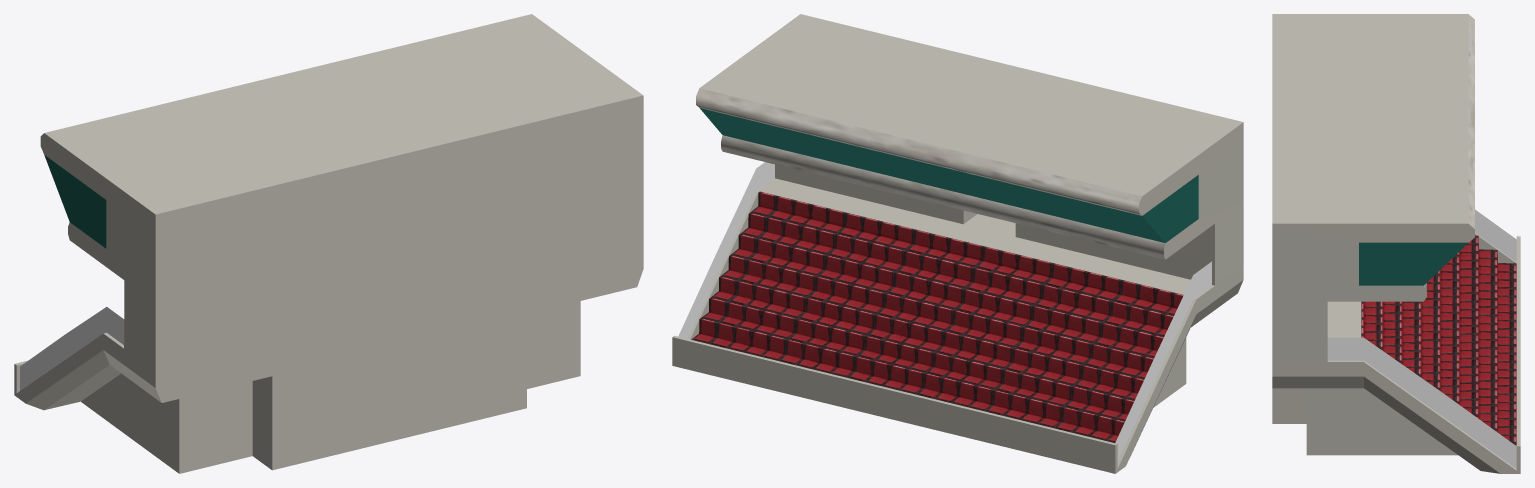
Rendered from grandstand3.obj.
The picture shows the model from 3 angles, left to right: view 1: azimuth 30°, elevation 25°; view 2: azimuth 150°, elevation 25°; view 3: azimuth 270°, elevation 25°; orthographic projection. The views are drawn at different scales.
Parts seen in each view (by area): view 1: Grandstands_Concrete, Grandstands_Side_Fence, Grandstands_Glass; view 2: Grandstands_Concrete, Grandstands_Seats, Grandstands_Glass, Grandstands_Side_Fence; view 3: Grandstands_Concrete, Grandstands_Seats, Grandstands_Side_Fence, Grandstands_Glass.
Part boxes in pixels (x1,y1,x2,y2): Grandstands_Concrete: (14,14,643,473); Grandstands_Side_Fence: (20,307,124,390); Grandstands_Glass: (44,155,106,248); Grandstands_Concrete: (672,14,1243,473); Grandstands_Seats: (691,191,1183,442); Grandstands_Glass: (700,108,1198,242); Grandstands_Side_Fence: (678,162,1211,460); Grandstands_Concrete: (1272,14,1520,473); Grandstands_Seats: (1361,235,1516,445); Grandstands_Side_Fence: (1327,209,1516,468); Grandstands_Glass: (1359,242,1468,285).
Bounding box in the file's own units: 0.1968 × 0.1096 × 0.0986.
Materials: 5 (4 with a texture image).
